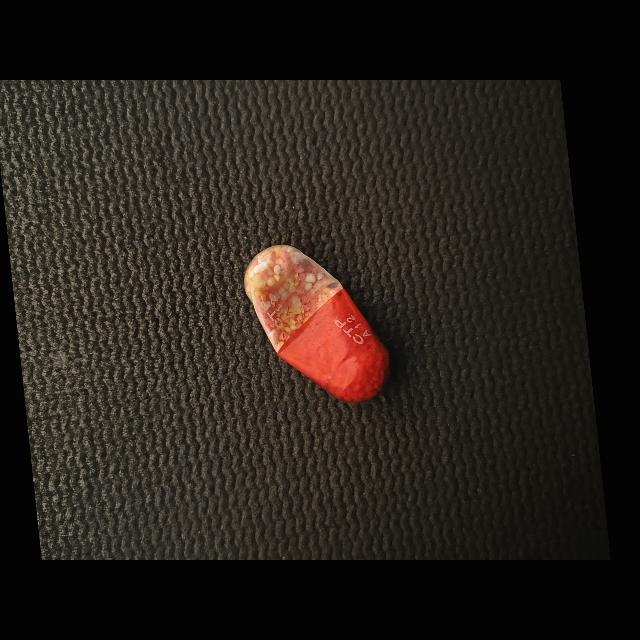Defective Capsule: (244, 245, 389, 402)
